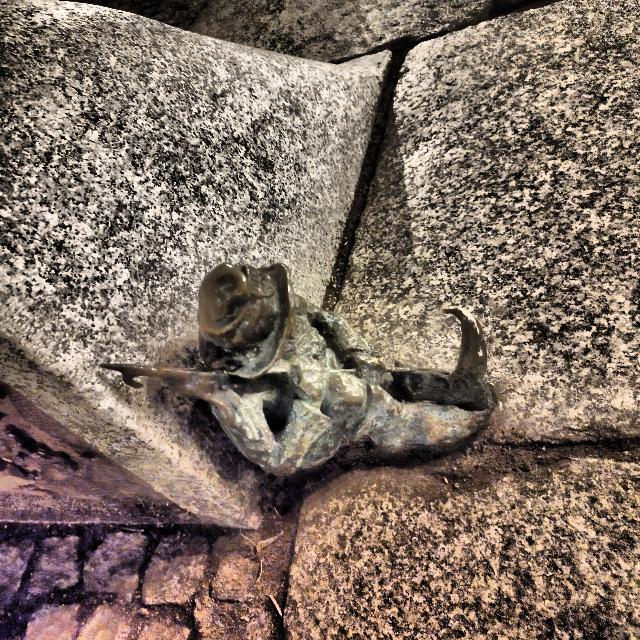Spioch: (102, 264, 498, 475)
